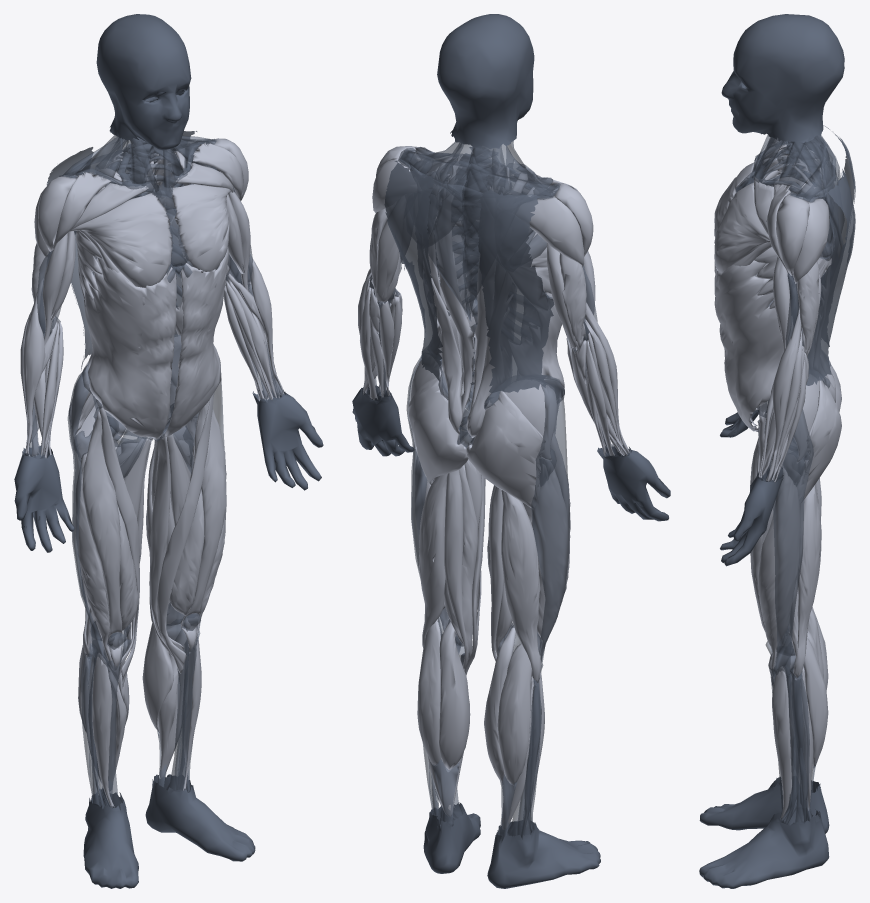
The model's file is corpo-musculos.glb.
The picture shows the model from 3 angles, left to right: view 1: azimuth 30°, elevation 25°; view 2: azimuth 150°, elevation 25°; view 3: azimuth 270°, elevation 25°; orthographic projection. The views are drawn at different scales.
Parts seen in each view (by area): view 1: REG_CINTURA_D_obliquo_externo, NEUTRO_cabeca, NEUTRO_pes, NEUTRO_maos, REG_PEITO_D_peitoral_maior, NEUTRO_perna, NEUTRO_ossos_perna, REG_CINTURA_E_obliquo_externo, REG_PEITO_E_peitoral_maior, REG_COXA_D_reto_femoral, REG_COXA_E_adutores, REG_COXA_E_reto_femoral (+36 smaller); view 2: NEUTRO_pele_costas, NEUTRO_perna, NEUTRO_trapezio, NEUTRO_cabeca, NEUTRO_pes, REG_PANTURRILHA_E_gastrocnemio, REG_CINTURA_E_eretor_espinha, NEUTRO_maos, REG_QUADRIL_D_gluteo_maximo, REG_PANTURRILHA_D_gastrocnemio, REG_COXA_D_biceps_femoral, REG_COXA_D_vasto_lateral (+34 smaller); view 3: NEUTRO_cabeca, NEUTRO_pes, NEUTRO_perna, REG_CINTURA_E_obliquo_externo, REG_COXA_E_vasto_lateral, REG_OMBRO_E_deltoide, NEUTRO_pele_costas, REG_PEITO_E_peitoral_maior, NEUTRO_trapezio, REG_COXA_E_biceps_femoral, NEUTRO_maos, REG_QUADRIL_E_gluteo_maximo (+25 smaller).
Part boxes in pixels (box(x1,y1,x2,y2)): REG_CINTURA_D_obliquo_externo: box(83, 257, 176, 439); NEUTRO_cabeca: box(96, 14, 191, 150); NEUTRO_pes: box(83, 774, 255, 888); NEUTRO_maos: box(14, 389, 323, 552); REG_PEITO_D_peitoral_maior: box(69, 183, 173, 305); NEUTRO_perna: box(67, 370, 224, 808); NEUTRO_ossos_perna: box(73, 406, 200, 809); REG_CINTURA_E_obliquo_externo: box(162, 247, 228, 436); REG_PEITO_E_peitoral_maior: box(170, 163, 233, 287); REG_COXA_D_reto_femoral: box(82, 411, 123, 670); REG_COXA_E_adutores: box(149, 433, 193, 650); REG_COXA_E_reto_femoral: box(181, 400, 226, 653); NEUTRO_pele_costas: box(384, 160, 554, 393); NEUTRO_perna: box(406, 355, 569, 840); NEUTRO_trapezio: box(400, 142, 558, 321); NEUTRO_cabeca: box(437, 14, 534, 148); NEUTRO_pes: box(423, 802, 600, 888); REG_PANTURRILHA_E_gastrocnemio: box(417, 619, 470, 771); REG_CINTURA_E_eretor_espinha: box(422, 154, 473, 434); NEUTRO_maos: box(352, 385, 670, 521); REG_QUADRIL_D_gluteo_maximo: box(466, 390, 545, 508); REG_PANTURRILHA_D_gastrocnemio: box(484, 625, 532, 785); REG_COXA_D_biceps_femoral: box(501, 490, 541, 685); REG_COXA_D_vasto_lateral: box(531, 459, 570, 661); NEUTRO_cabeca: box(721, 14, 844, 142); NEUTRO_pes: box(699, 777, 829, 888); NEUTRO_perna: box(758, 409, 815, 824); REG_CINTURA_E_obliquo_externo: box(714, 260, 793, 431); REG_COXA_E_vasto_lateral: box(758, 465, 800, 678); REG_OMBRO_E_deltoide: box(766, 184, 829, 283); NEUTRO_pele_costas: box(806, 125, 855, 385); REG_PEITO_E_peitoral_maior: box(714, 177, 773, 288); NEUTRO_trapezio: box(778, 135, 844, 278); REG_COXA_E_biceps_femoral: box(789, 484, 821, 679); NEUTRO_maos: box(720, 410, 783, 566); REG_QUADRIL_E_gluteo_maximo: box(797, 377, 841, 503).
Bounding box in the file's own units: 0.6796 × 1.75 × 0.2975.
